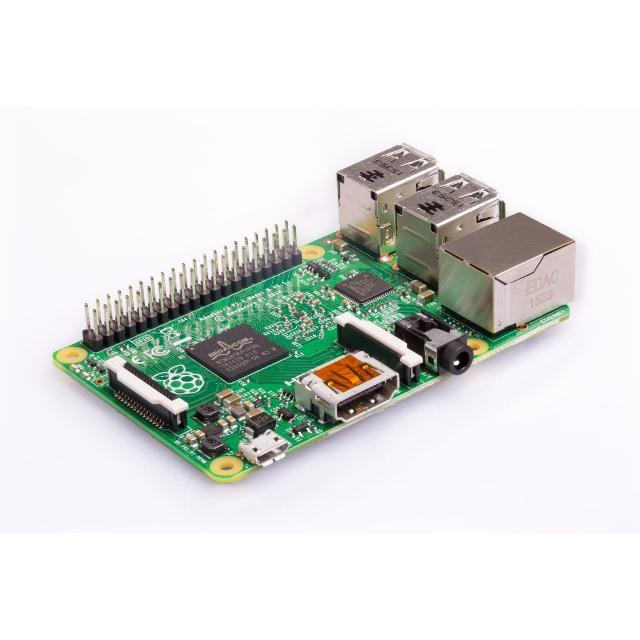Raspberry-Pi-2-B: (54, 145, 575, 482)
